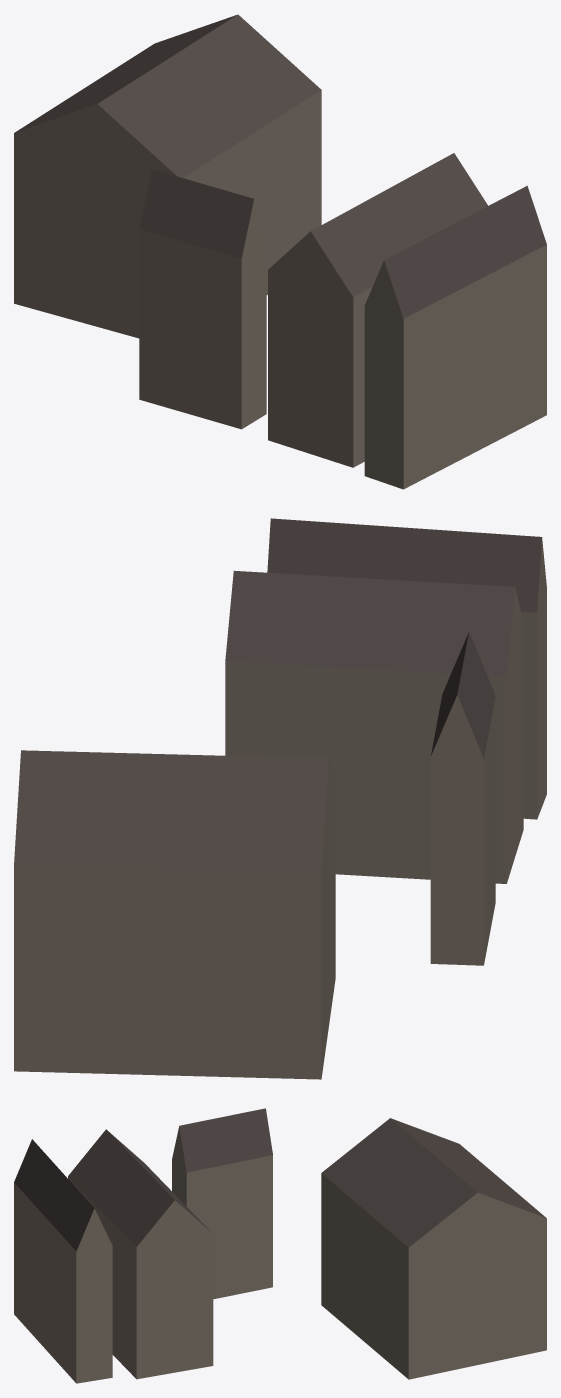
3 renders of one model, top to bottom at view 1: azimuth 30°, elevation 25°; view 2: azimuth 150°, elevation 25°; view 3: azimuth 270°, elevation 25°, orthographic. The views are drawn at different scales.
Parts seen in each view (by area): view 1: HP-r8277061; view 2: HP-r8277061; view 3: HP-r8277061.
Boxes of the visible parts, bbox=[...] form: HP-r8277061: bbox=[14, 14, 546, 489]; HP-r8277061: bbox=[14, 518, 546, 1079]; HP-r8277061: bbox=[14, 1108, 546, 1383].
Size of the model in its own units: 16 by 11.76 by 32.93.
